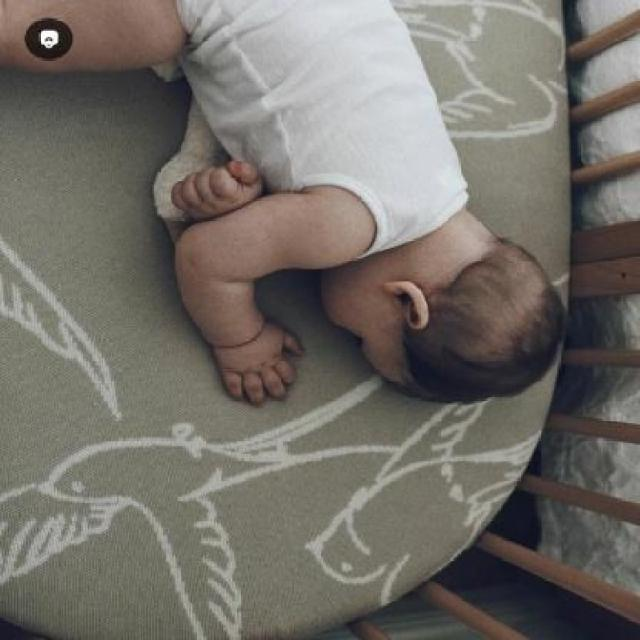baby: (157, 2, 565, 410)
